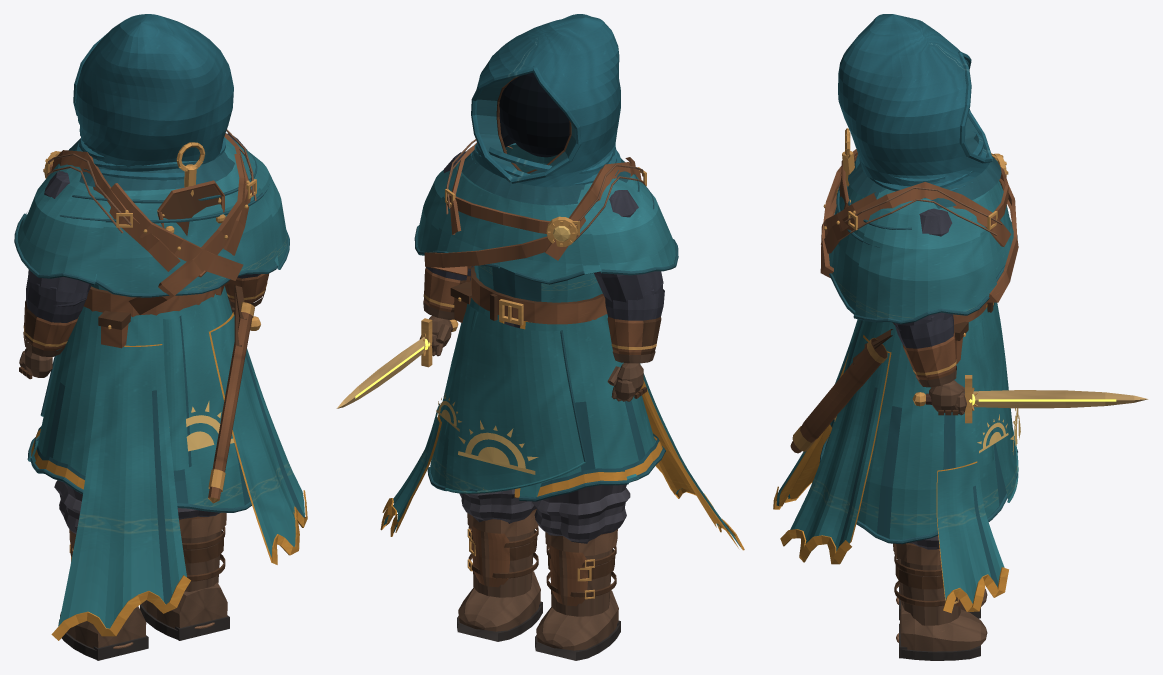
File: traveler.glb
3 views of the same model, side by side, from view 1: azimuth 30°, elevation 25°; view 2: azimuth 150°, elevation 25°; view 3: azimuth 270°, elevation 25° (orthographic). The views are drawn at different scales.
Visible parts, largest first — view 1: TailLGeometry, UpperBodyGeometry, HoodGeometry, CoatHemGeometry, TailRGeometry, MantleLGeometry, ElbowLGeometry, KneeRGeometry, FootRGeometry, PelvisGeometry, FootLGeometry, MantleRGeometry (+5 smaller); view 2: SkirtRGeometry, HoodGeometry, UpperBodyGeometry, SkirtLGeometry, KneeLGeometry, KneeRGeometry, MantleLGeometry, FootLGeometry, FootRGeometry, ElbowLGeometry, CoatHemGeometry, TailLGeometry (+7 smaller); view 3: HoodGeometry, SkirtRGeometry, MantleRGeometry, CoatHemGeometry, UpperBodyGeometry, TailRGeometry, KneeRGeometry, FootRGeometry, WeaponGeometry, ElbowRGeometry, PelvisGeometry, TailLGeometry (+2 smaller).
Boxes of the visible parts, x1,y1,x2,y2 form: TailLGeometry: (51, 344, 190, 640); UpperBodyGeometry: (43, 129, 277, 348); HoodGeometry: (68, 14, 234, 190); CoatHemGeometry: (30, 286, 251, 512); TailRGeometry: (209, 312, 307, 564); MantleLGeometry: (14, 150, 110, 285); ElbowLGeometry: (23, 276, 88, 356); KneeRGeometry: (177, 508, 226, 591); FootRGeometry: (140, 582, 229, 640); PelvisGeometry: (208, 285, 254, 503); FootLGeometry: (58, 606, 148, 660); MantleRGeometry: (224, 137, 289, 269); SkirtRGeometry: (380, 298, 586, 536); HoodGeometry: (459, 14, 630, 205); UpperBodyGeometry: (424, 139, 654, 325); SkirtLGeometry: (514, 318, 638, 501); KneeLGeometry: (532, 488, 630, 616); KneeRGeometry: (459, 489, 538, 597); MantleLGeometry: (577, 174, 678, 275); FootLGeometry: (535, 590, 620, 660); FootRGeometry: (457, 571, 542, 641); ElbowLGeometry: (605, 283, 664, 363); CoatHemGeometry: (591, 314, 665, 482); TailLGeometry: (640, 363, 744, 550); HoodGeometry: (838, 14, 1001, 208); SkirtRGeometry: (936, 302, 1020, 613); MantleRGeometry: (853, 189, 996, 324); CoatHemGeometry: (819, 319, 944, 544); UpperBodyGeometry: (820, 128, 1018, 364); TailRGeometry: (780, 335, 891, 564); KneeRGeometry: (893, 536, 961, 625); FootRGeometry: (896, 600, 987, 660); WeaponGeometry: (912, 375, 1148, 423); ElbowRGeometry: (893, 315, 956, 387); PelvisGeometry: (790, 329, 892, 453); TailLGeometry: (773, 319, 858, 509).
Size of the model in its own units: 0.9464 by 1.83 by 1.04.
7 materials, 4 textured.
